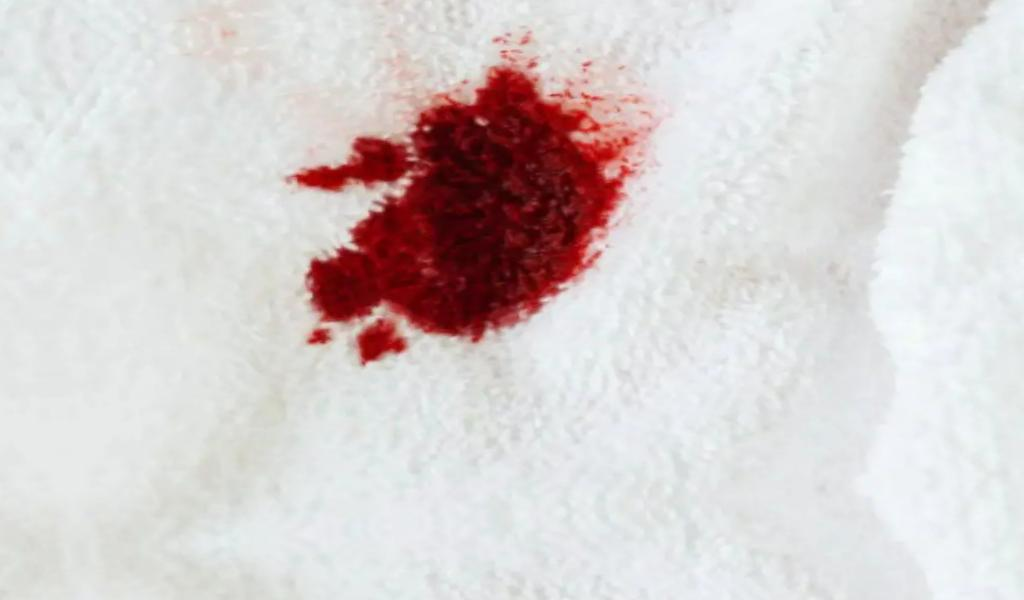stain: (278, 25, 666, 375)
